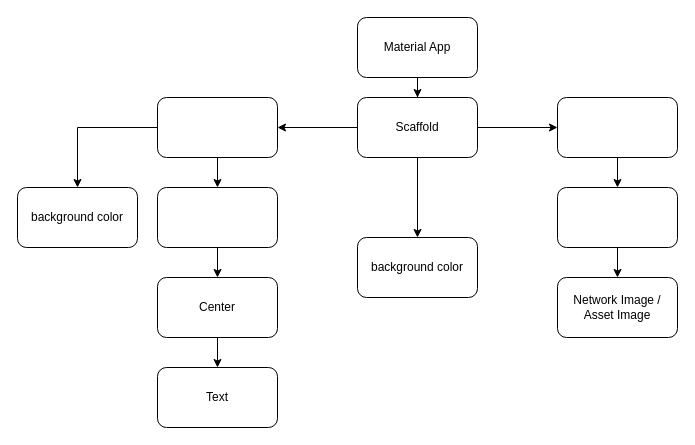
Image size: 695x445. Some labels were removed from this diagram. Each missing label, with the centre of its shape:
AppBar: the point at 217,127
Body: the point at 617,127
Image: the point at 617,217
Title: the point at 217,217
